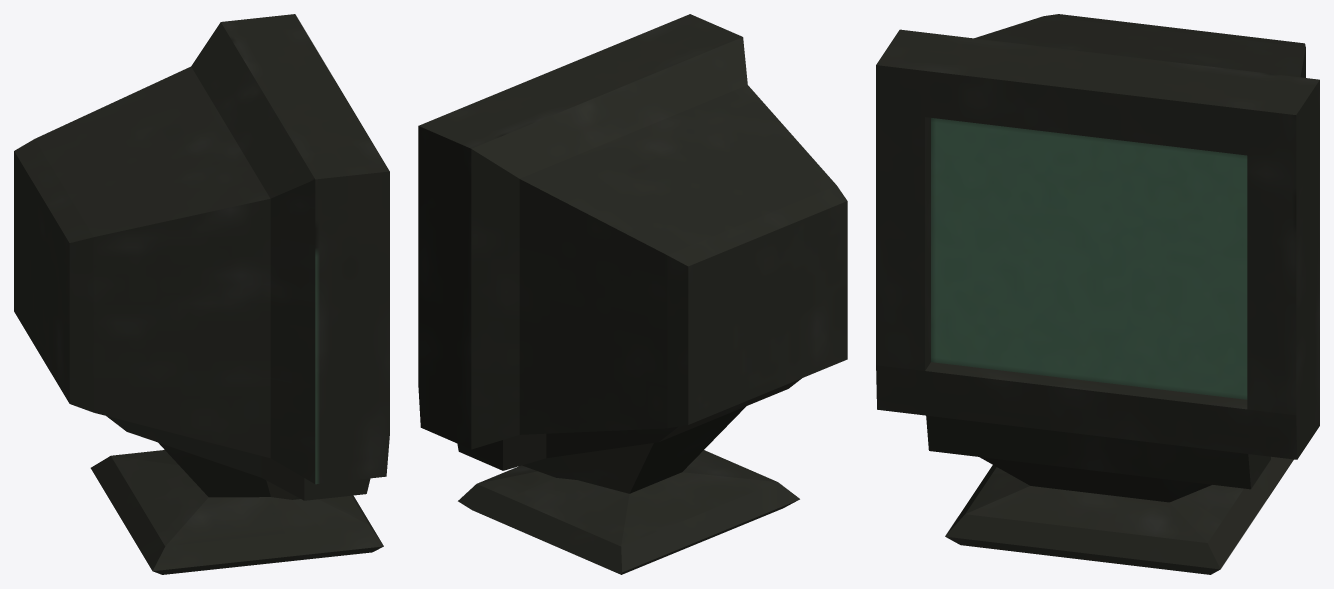
File: monitor.fbx
3 renders of one model, left to right at view 1: azimuth 30°, elevation 25°; view 2: azimuth 150°, elevation 25°; view 3: azimuth 270°, elevation 25°, orthographic. The views are drawn at different scales.
Parts seen in each view (by area): view 1: Monitor; view 2: Monitor; view 3: Monitor.
Part boxes in pixels (box(x1,y1,x2,y2)): Monitor: box(14, 14, 389, 574); Monitor: box(418, 14, 847, 574); Monitor: box(876, 14, 1319, 574).
Bounding box in the file's own units: 16.87 × 20.15 × 17.28.
Materials: 1 (1 with a texture image).
